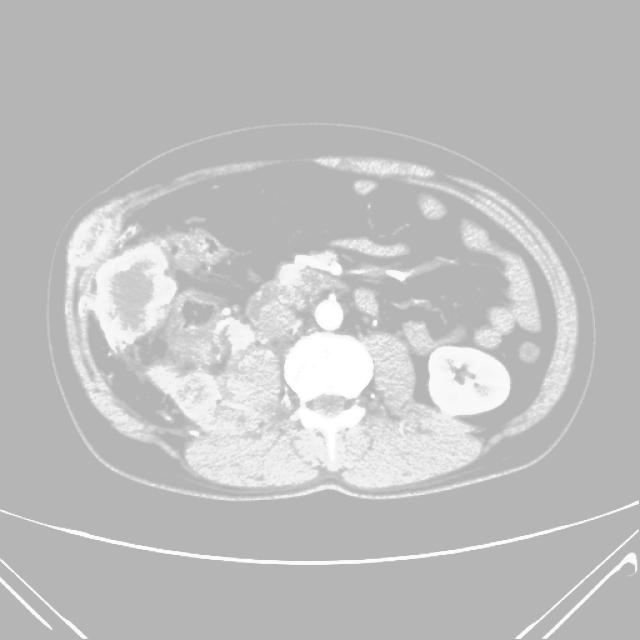TUMOR: (91, 132, 525, 473)
